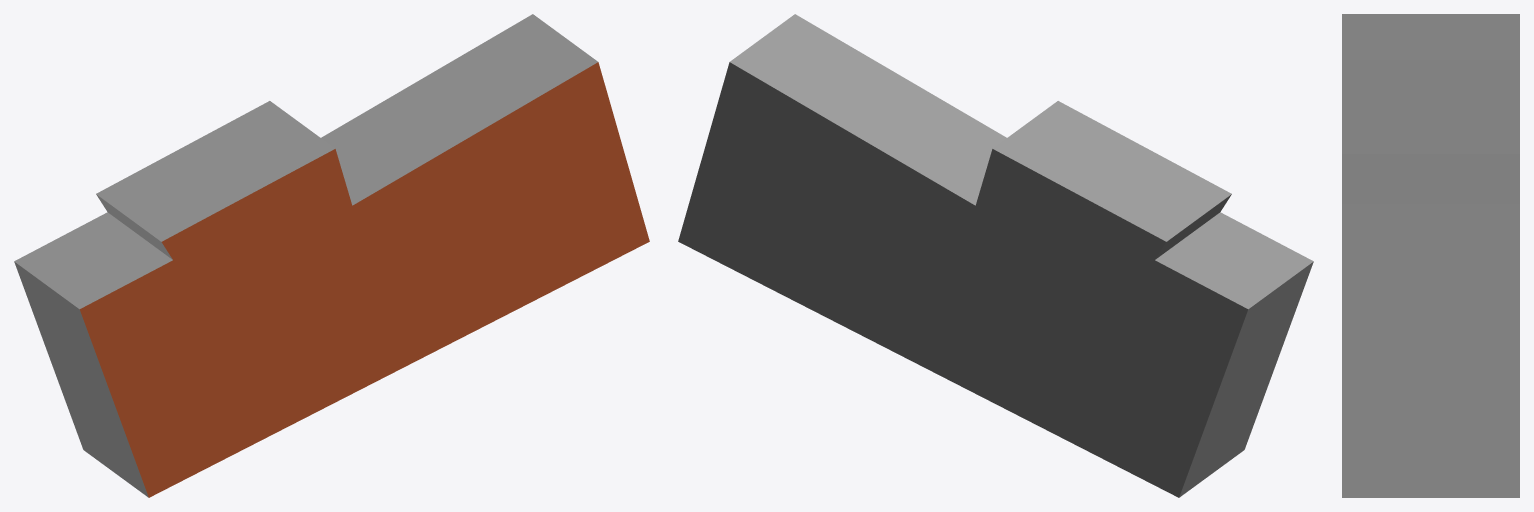
File: construction_3178_assumed_A_Casa_h6m.obj
3 views of the same model, side by side, from view 1: azimuth 30°, elevation 25°; view 2: azimuth 150°, elevation 25°; view 3: azimuth 270°, elevation 25° (orthographic). The views are drawn at different scales.
Parts seen in each view (by area): view 1: construction_3178_assumed_A_Casa; view 2: construction_3178_assumed_A_Casa; view 3: construction_3178_assumed_A_Casa.
Part boxes in pixels (x1,y1,x2,y2): construction_3178_assumed_A_Casa: (14, 14, 649, 497); construction_3178_assumed_A_Casa: (678, 14, 1313, 497); construction_3178_assumed_A_Casa: (1342, 14, 1519, 497).
Bounding box in the file's own units: 30.12 × 16.47 × 6.
